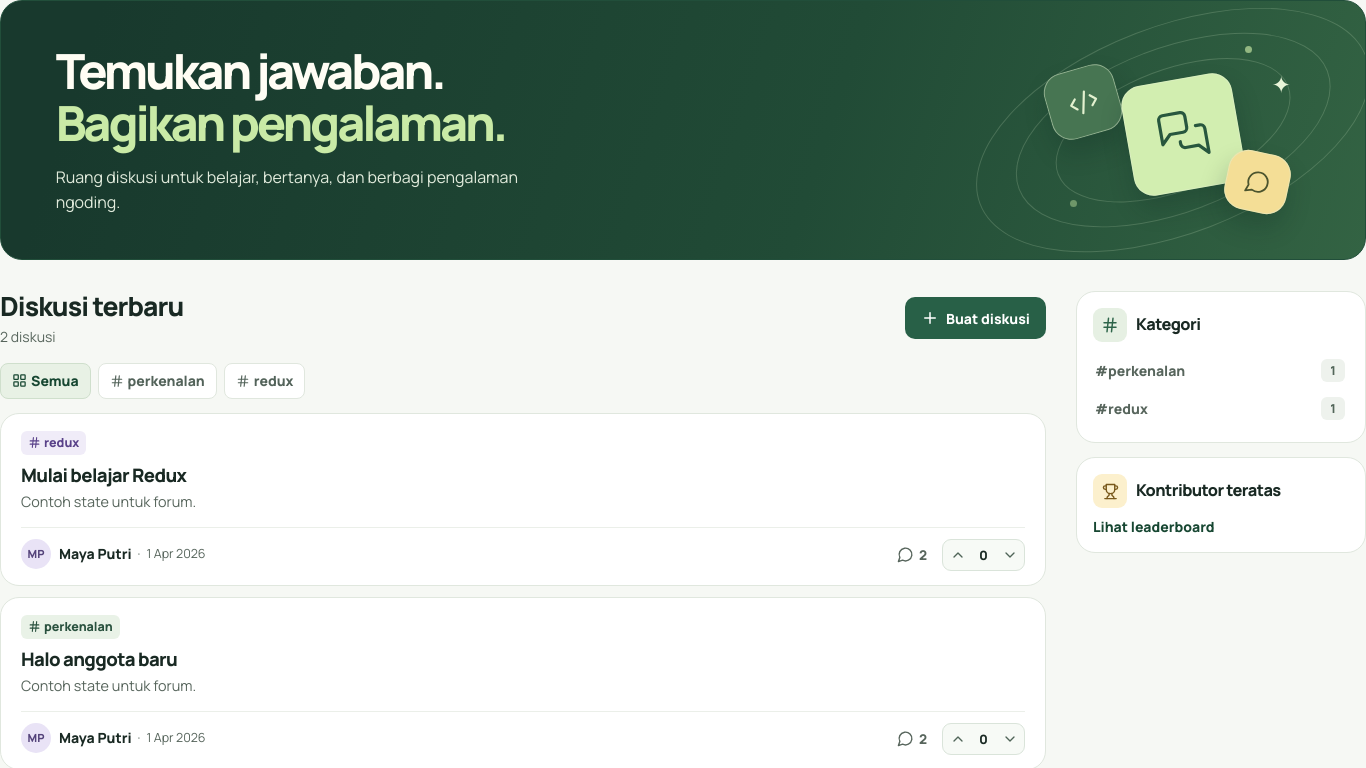
Scenario: FeedPage › menyaring diskusi setelah kategori dipilih
The image size is (1366, 768).
Click the button "redux" at (265, 381), box [224, 363, 306, 399]
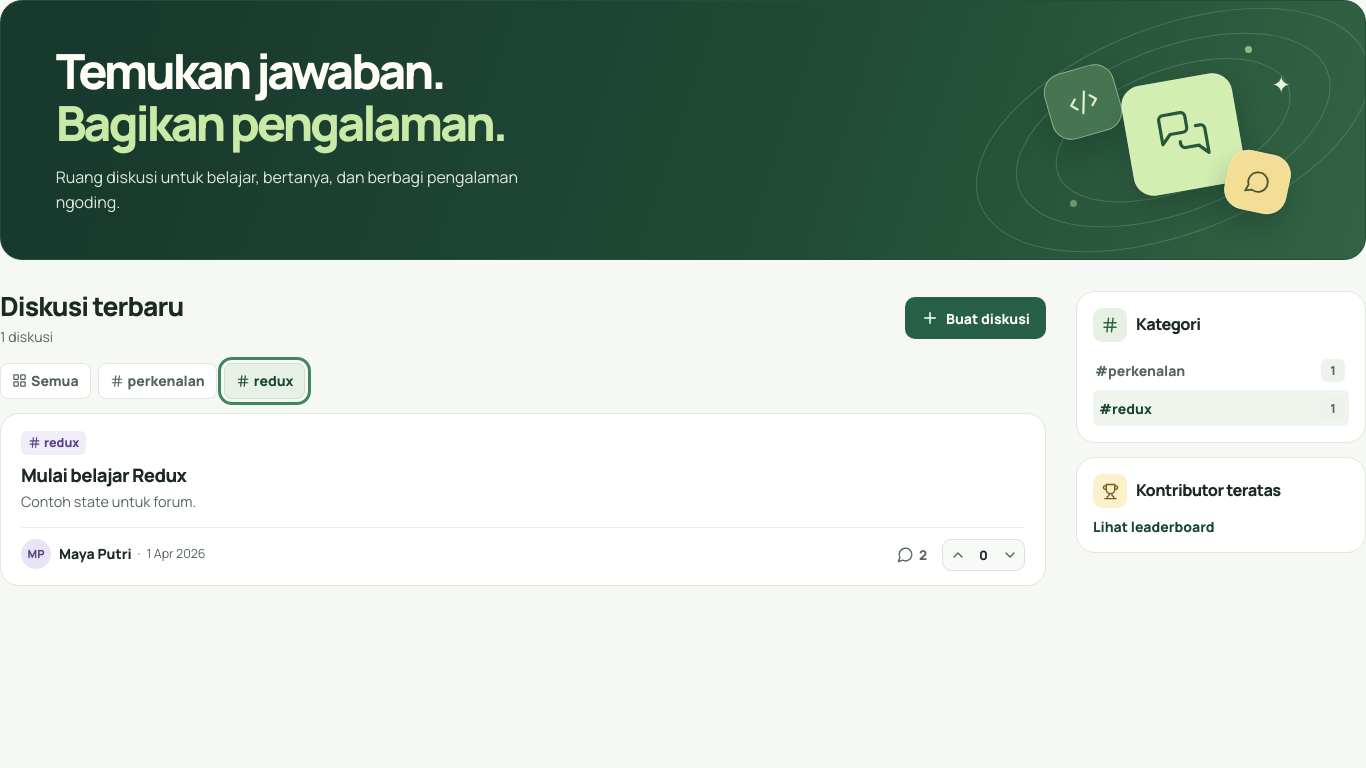
Expected: the link "Mulai belajar Redux" is shown, [21, 462, 186, 488]
Result: the link "Halo anggota baru" is gone
